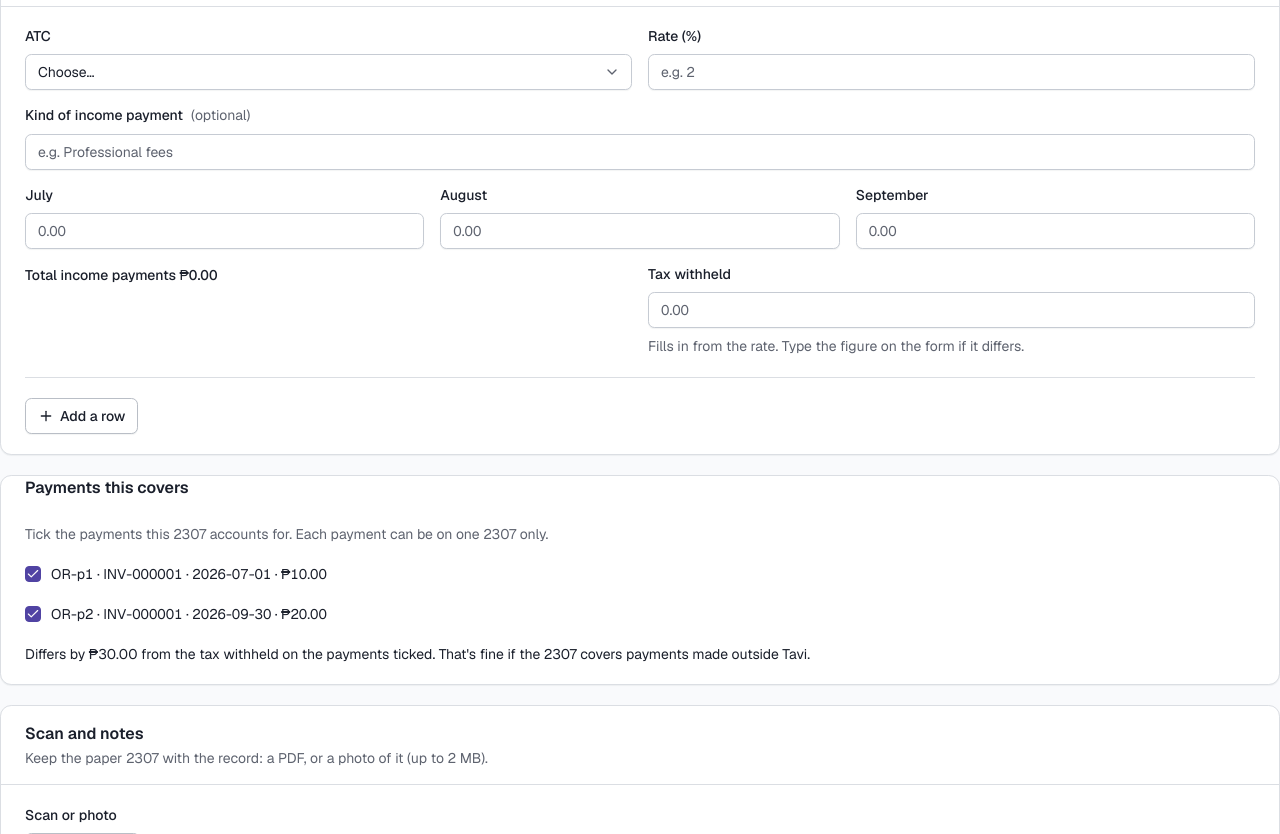
Scenario: rows › starts with one row, adds up to five and removes back to one
(page scrolled)
expect the number of dropdowns labelled "ATC" is 1: met, box [25,54,632,90]
expect the button "Remove row" is not shown: met
What coordinates should you click on to do the following:
click the button "Add a row"
I would click on:
 (82, 416)
Its box is [25,398,138,434].
(page scrolled)
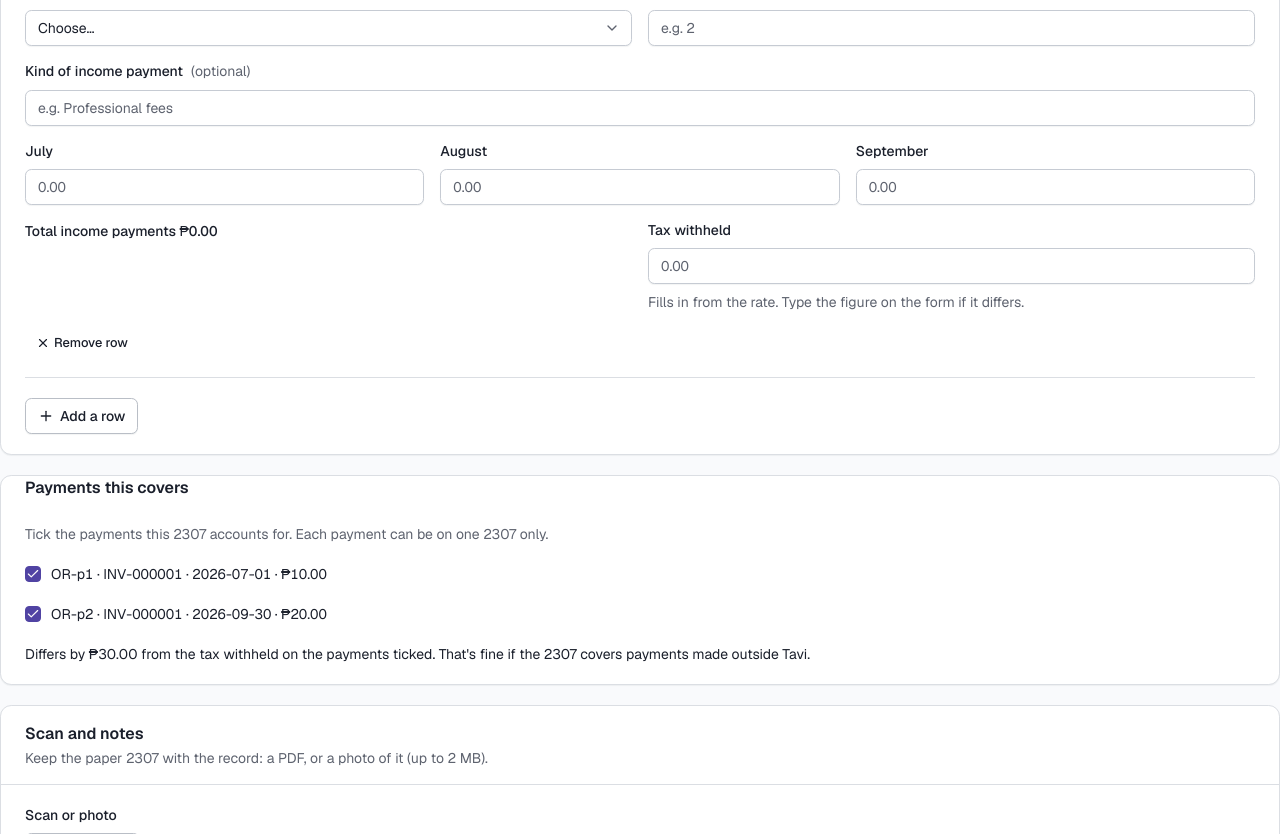
What coordinates should you click on to do the following:
click the button "Add a row"
I would click on:
 (82, 416)
Its box is [25,398,138,434].
(page scrolled)
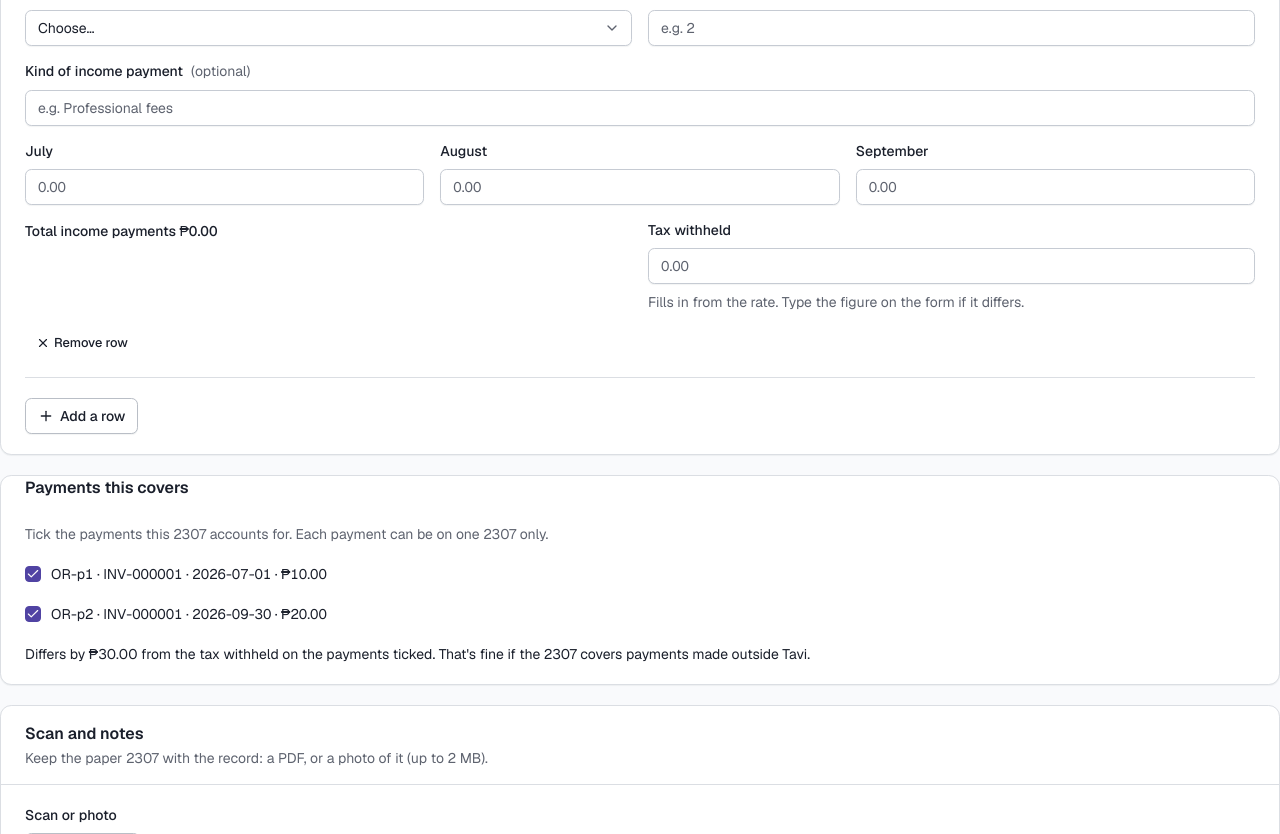
What coordinates should you click on to do the following:
click the button "Add a row"
I would click on:
 (82, 416)
Its box is [25,398,138,434].
(page scrolled)
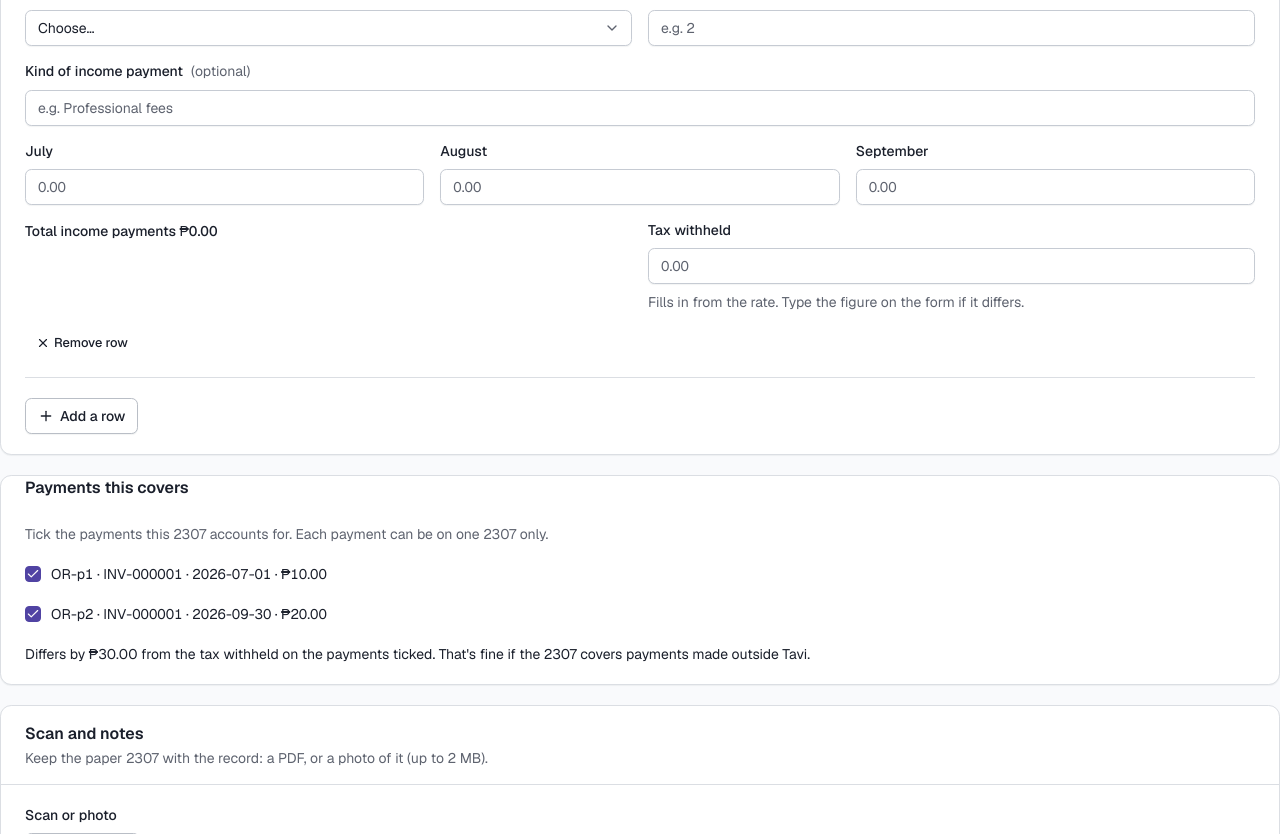
What coordinates should you click on to do the following:
click the button "Add a row"
I would click on:
 (82, 416)
Its box is [25,398,138,434].
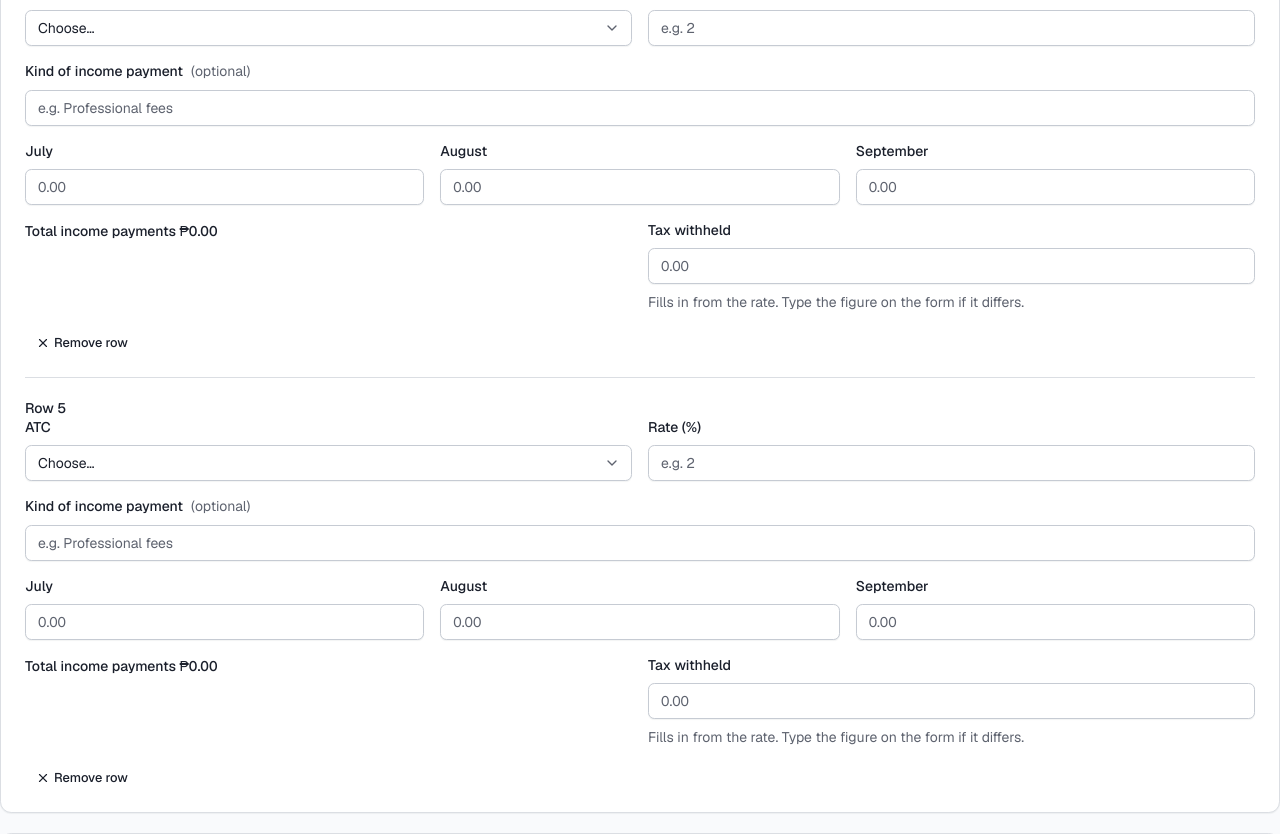
expect the number of fields labelled "ATC" is 5: met
expect the button "Add a row" is gone: met
What coordinates should you click on to do the following:
click the button with aria-label "Remove row 5"
I would click on:
 (82, 778)
Its box is [25,764,139,792].
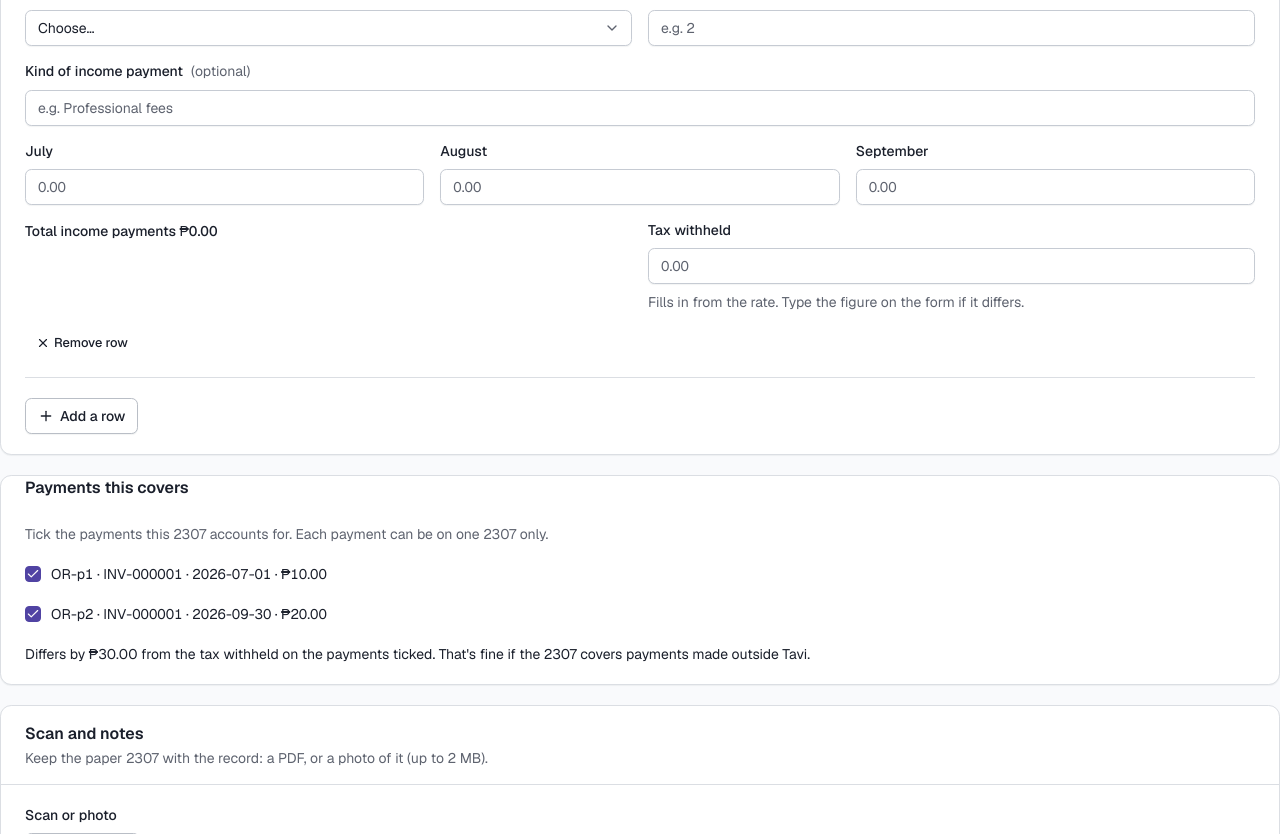
expect the button "Add a row" is shown: met, box [25,398,138,434]
